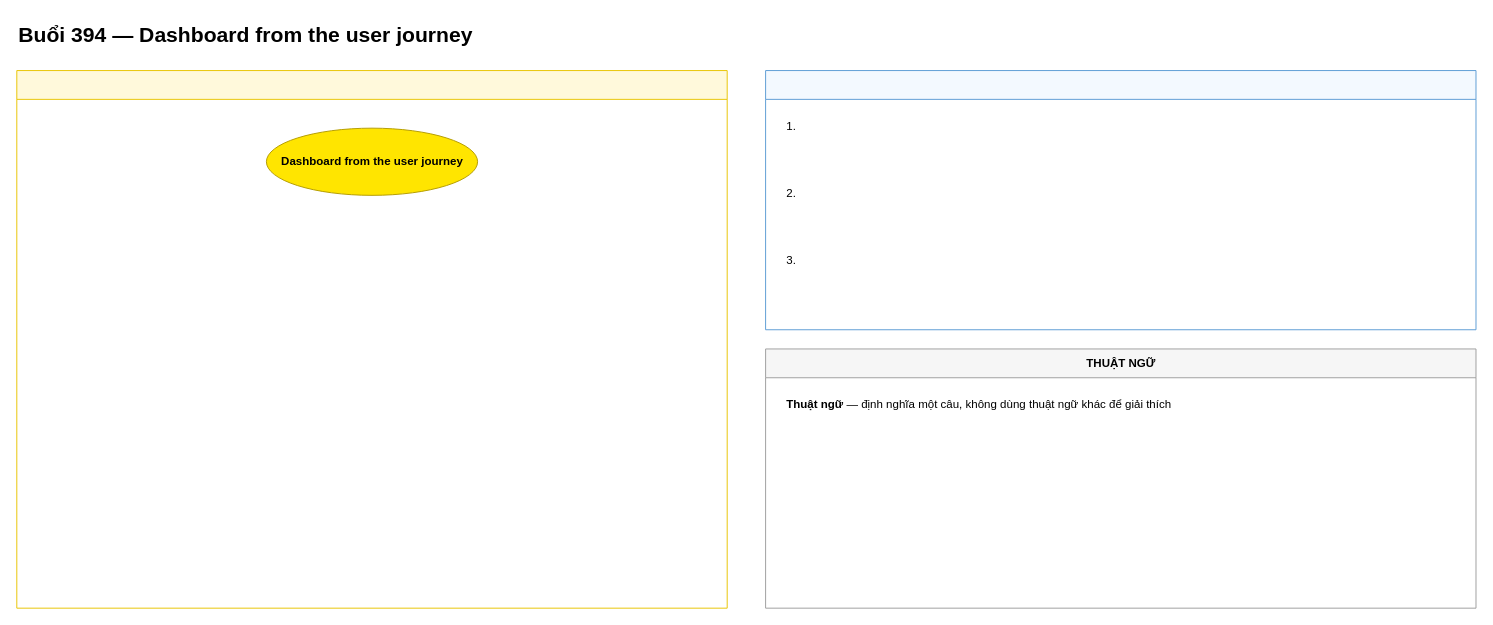
Some shapes in this 1493 by 625 pixel diagram are drawn without their labels. Here are the shapes that lost their labels. From the top down, the box of each, then its label:
(765, 70, 1476, 330): KEY TAKEAWAY — ba điều phải nhớ
(16, 70, 727, 608): MINDMAP
